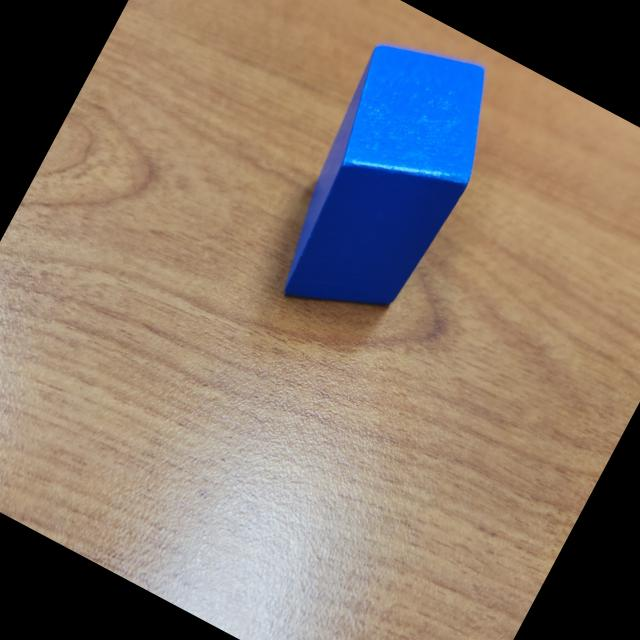blue: (252, 18, 520, 348)
